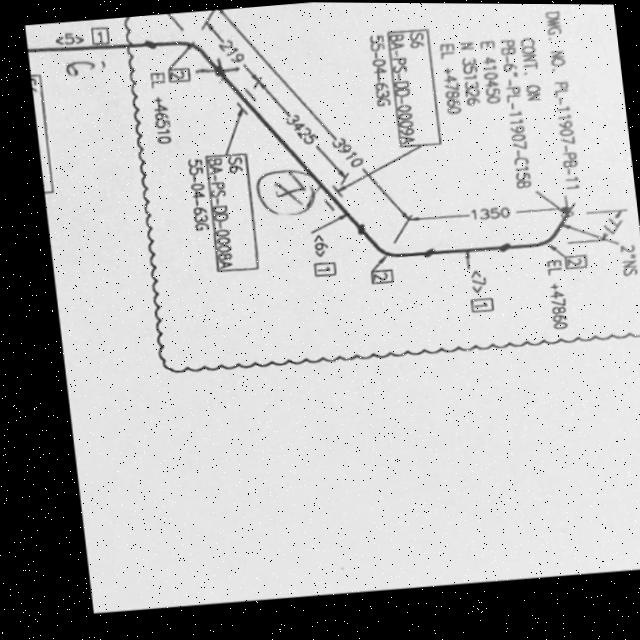Item number: (382, 23, 444, 150), (199, 149, 260, 276), (363, 266, 394, 285), (164, 64, 193, 84), (466, 295, 495, 314), (560, 252, 588, 271), (309, 259, 337, 278), (87, 24, 111, 46)
Measrement: (208, 8, 410, 226), (251, 75, 350, 188), (199, 15, 262, 87), (399, 201, 557, 225), (589, 206, 629, 242), (613, 241, 639, 278)
Pipeline: (23, 36, 578, 265)
Symbol: (133, 24, 230, 88), (485, 200, 579, 257), (348, 212, 440, 267)
Weld number: (249, 163, 320, 220)
other: (433, 33, 550, 195), (537, 3, 586, 191), (179, 155, 211, 236), (361, 31, 394, 109), (143, 67, 174, 150), (538, 256, 570, 333)
